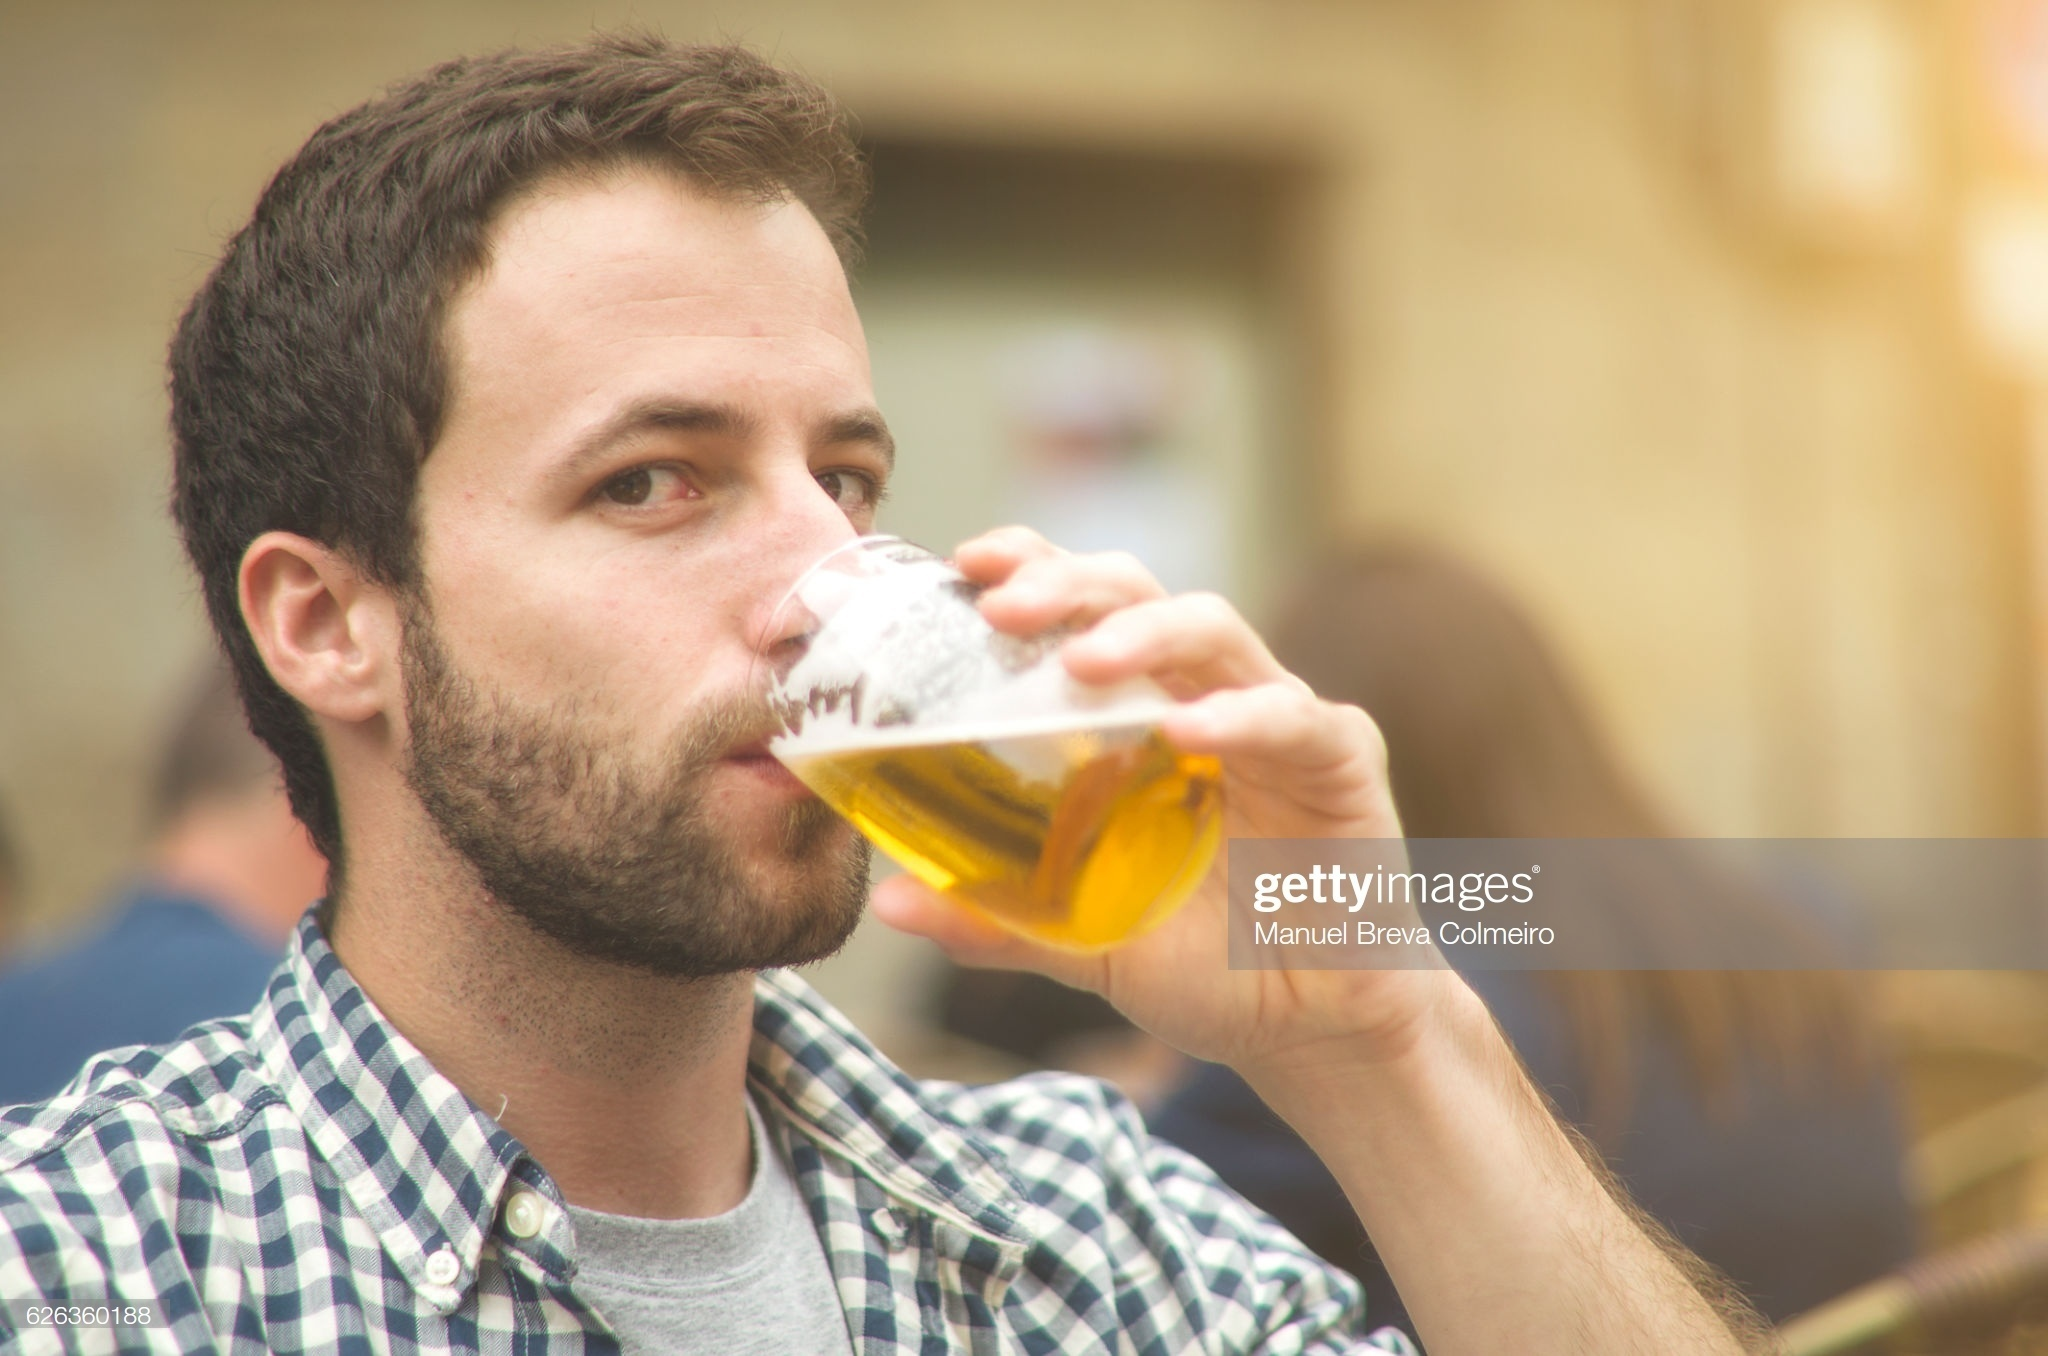whiskey: (759, 533, 1190, 984)
